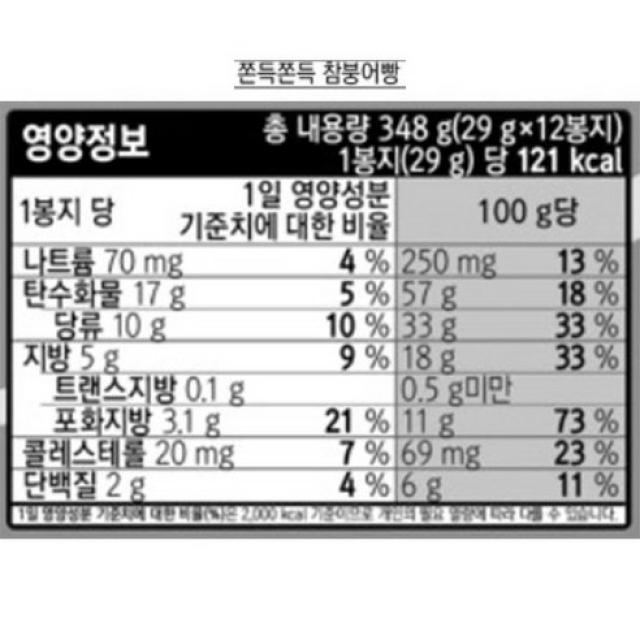Nutrition Label: (0, 100, 640, 544)
